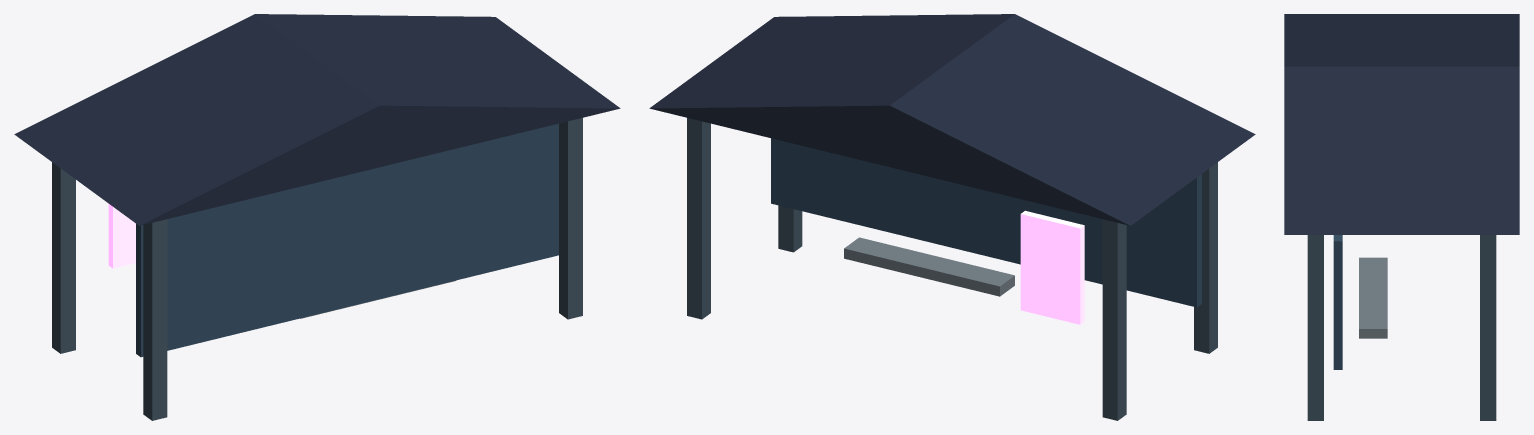
Rendered from transit-shelter.glb.
3 renders of one model, left to right at view 1: azimuth 30°, elevation 25°; view 2: azimuth 150°, elevation 25°; view 3: azimuth 270°, elevation 25°, orthographic. The views are drawn at different scales.
Visible parts, largest first — view 1: transit-shelter; view 2: transit-shelter; view 3: transit-shelter.
Boxes of the visible parts, box(x1,y1,x2,y2) form: transit-shelter: box(14, 14, 620, 420); transit-shelter: box(649, 14, 1255, 420); transit-shelter: box(1284, 14, 1519, 420).
Bounding box in the file's own units: 6.95 × 3.75 × 3.13.
